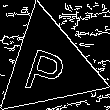P_N: (24, 36, 73, 96)
